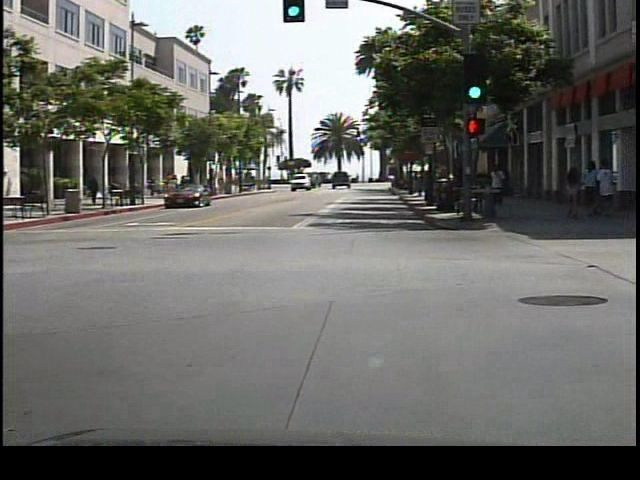person: (489, 159, 513, 213), (88, 172, 105, 206)
